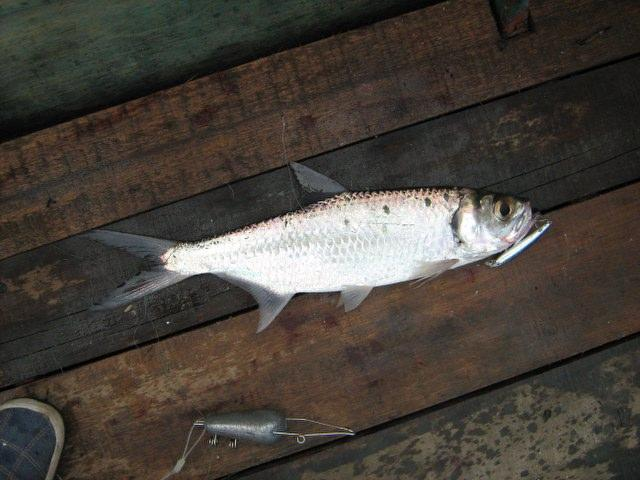Mulut: (510, 194, 574, 268)
Sirip Anal: (215, 260, 298, 347)
Sirip Dada: (394, 247, 466, 295)
Sirip Ekor: (78, 214, 190, 330)
Sirip Perut: (333, 274, 375, 322)
Sirip Punggung: (277, 150, 355, 212)
